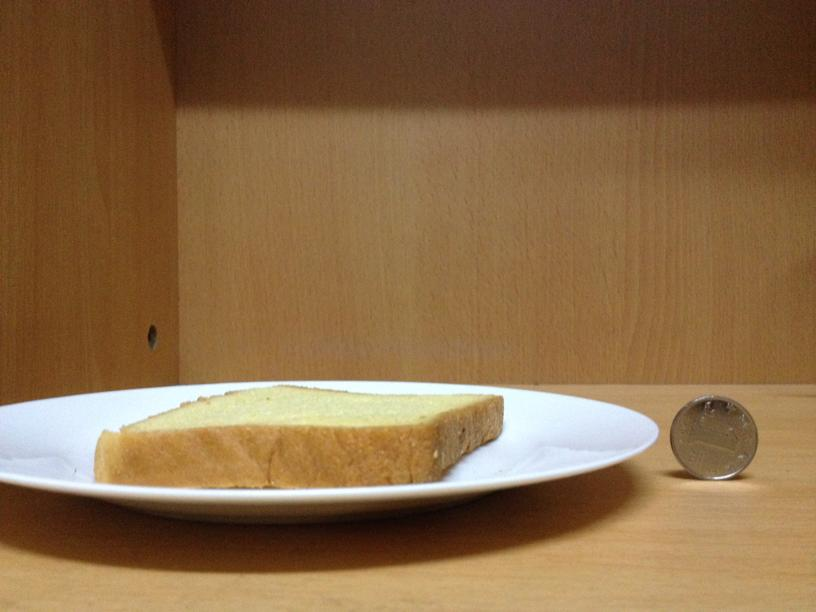bread: (81, 379, 506, 486)
coin: (669, 392, 757, 483)
